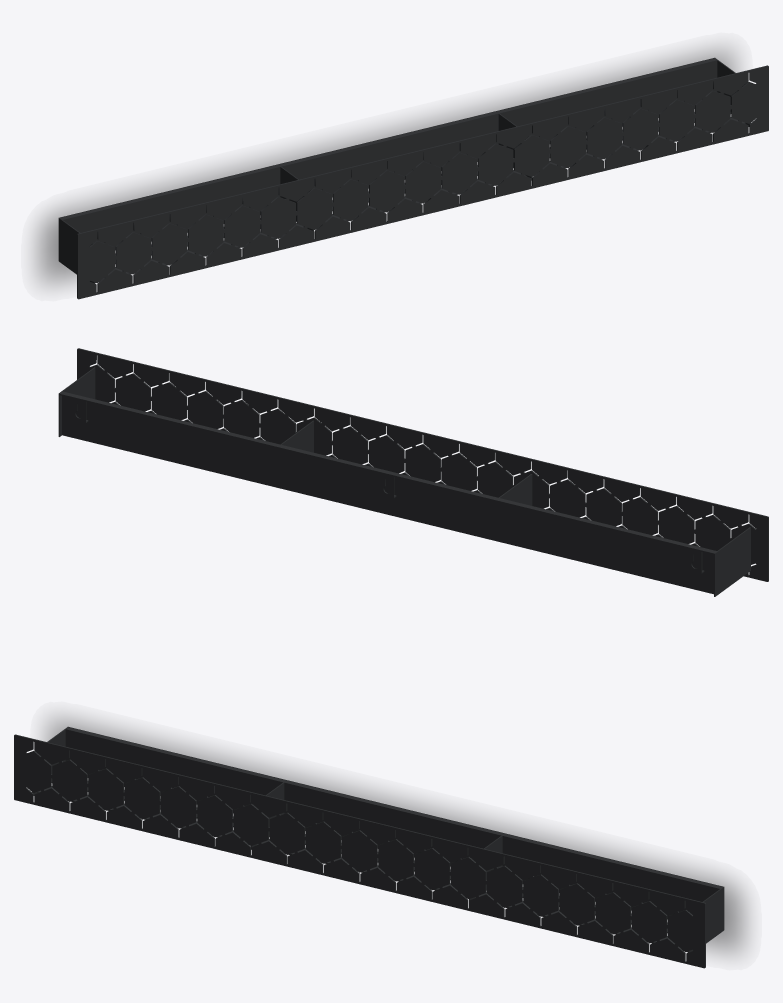
File: bee-mono.264c1e3635.ar.glb
3 renders of one model, top to bottom at view 1: azimuth 30°, elevation 25°; view 2: azimuth 150°, elevation 25°; view 3: azimuth 330°, elevation 25°, orthographic.
Parts seen in each view (by area): view 1: NAUO1, object 2; view 2: NAUO1; view 3: NAUO1, object 2.
Boxes of the visible parts, x1=… form: NAUO1: x1=58, y1=57, x2=768, y2=299; object 2: x1=34, y1=48, x2=738, y2=285; NAUO1: x1=58, y1=348, x2=768, y2=596; NAUO1: x1=14, y1=726, x2=724, y2=968; object 2: x1=44, y1=717, x2=748, y2=954.
Bounding box in the file's own units: 1.08 × 0.17 × 0.092.
Materials: 2 (1 with a texture image).
